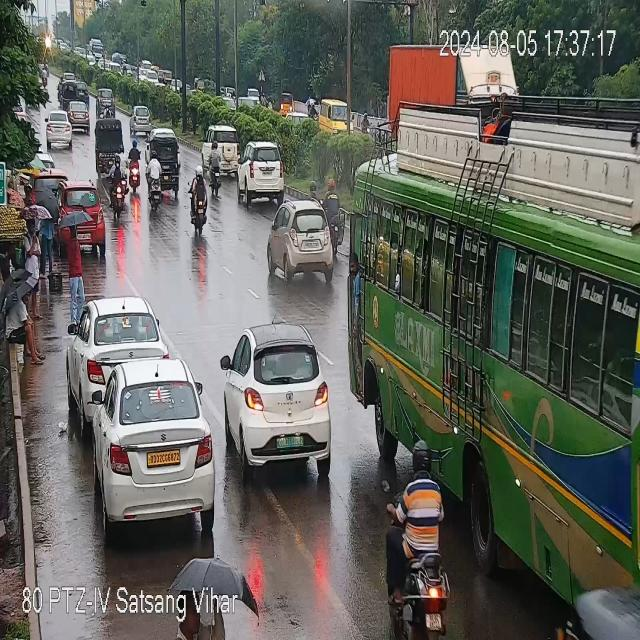2-wheelers: (376, 440, 454, 634), (325, 177, 347, 244), (188, 164, 207, 233), (146, 155, 168, 211), (110, 160, 130, 210), (127, 146, 142, 194), (210, 140, 222, 196), (105, 106, 110, 115)
auto: (388, 40, 515, 118), (148, 139, 184, 196), (95, 119, 128, 166), (66, 105, 95, 134), (281, 89, 295, 122), (60, 82, 78, 107)
bus: (355, 131, 640, 637), (322, 96, 354, 136)
car: (80, 360, 220, 527), (224, 331, 333, 477), (74, 297, 164, 399), (270, 205, 338, 285), (232, 149, 289, 207), (60, 185, 109, 248), (200, 121, 237, 174), (48, 116, 76, 150), (129, 105, 151, 134), (95, 88, 115, 117), (79, 80, 90, 103), (62, 72, 76, 82)
pedestrian: (4, 286, 45, 362), (25, 216, 44, 312), (64, 223, 83, 310), (38, 193, 55, 282), (33, 163, 65, 194)
